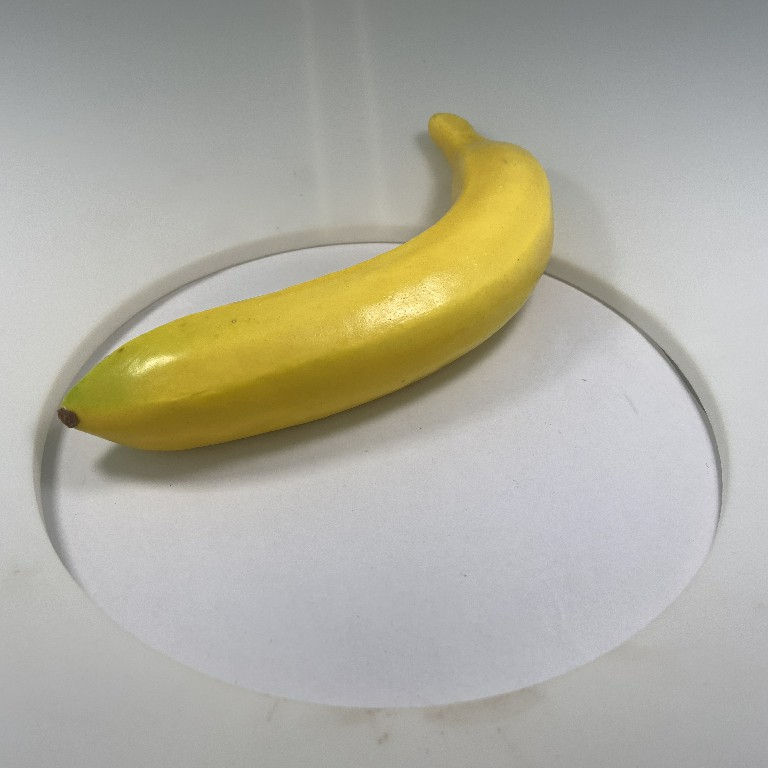fruit_banana: (55, 109, 557, 455)
